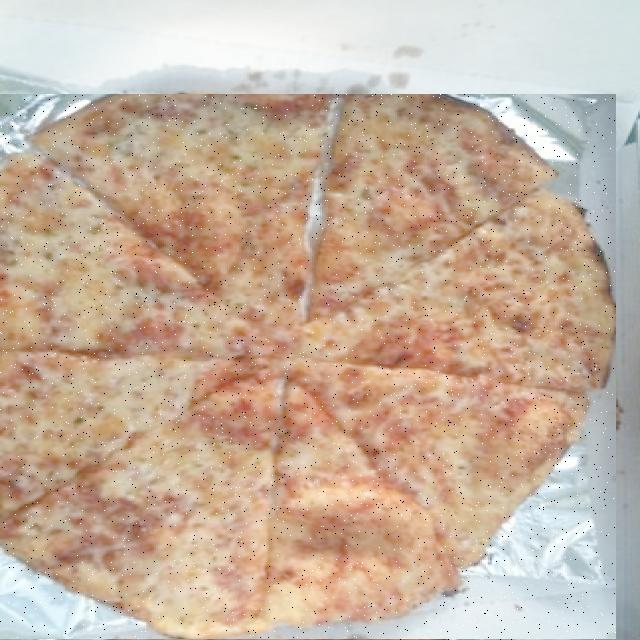Pizza: (0, 94, 616, 640)
